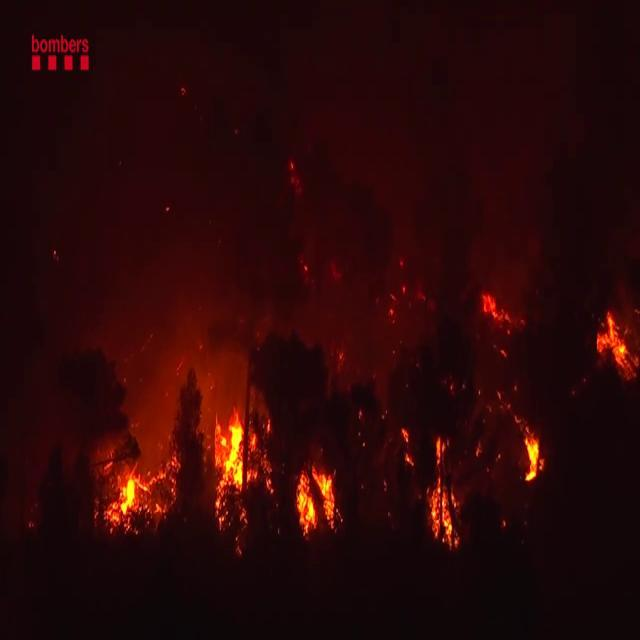Fire: (211, 406, 251, 502), (294, 458, 339, 536), (427, 437, 457, 551), (594, 301, 634, 377), (108, 463, 148, 530), (522, 424, 544, 486)
Smoke: (136, 281, 272, 437)
